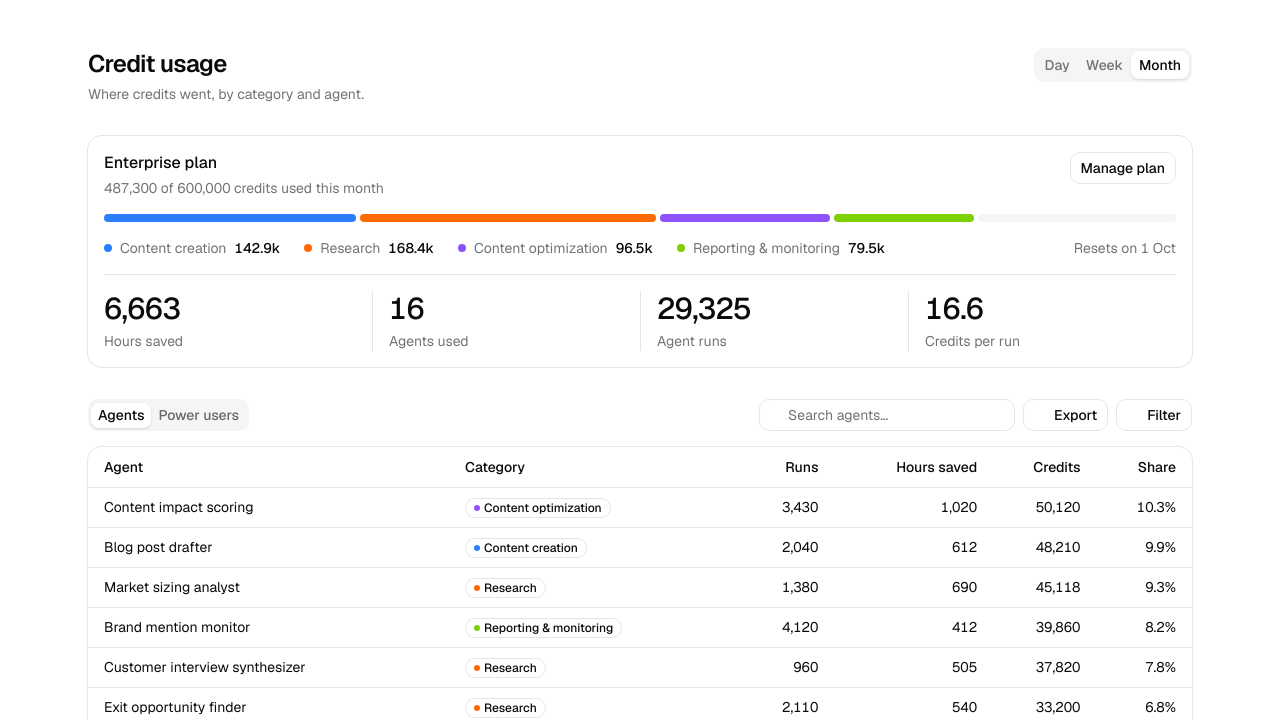
Test: CreditUsage › filters by category and shows a resettable empty state
Click the button "Filter": x=1154, y=415 [1116,399,1192,431]
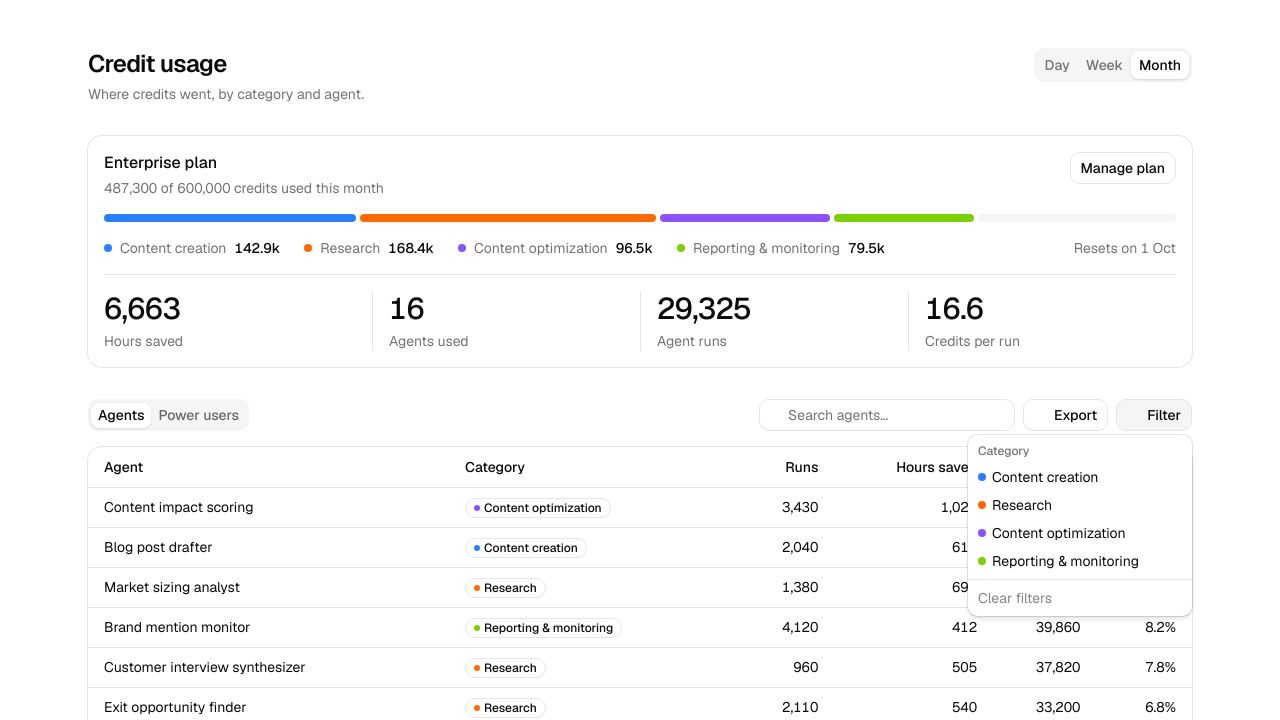
Click the menu item "Research": x=1015, y=505 [978,496,1052,514]
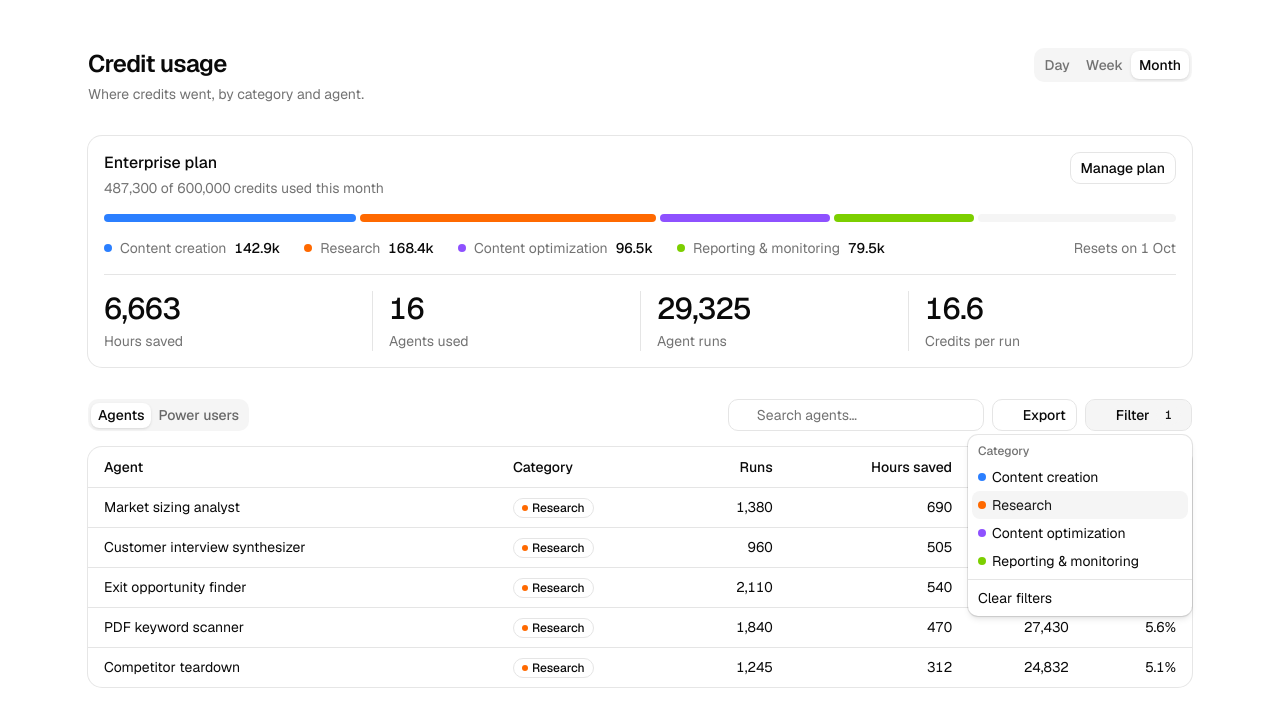
Press Escape
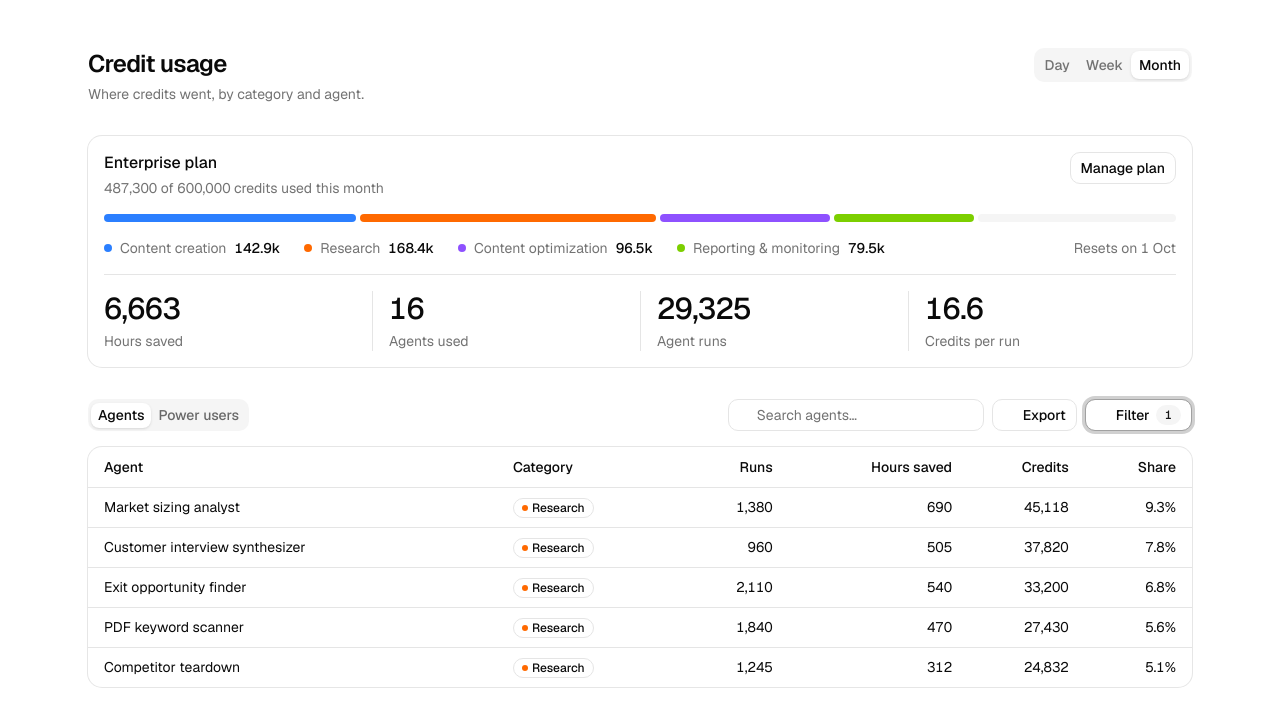
Expected: the button "Filter 1" is shown, [1085,399,1192,431]
In the search field labelled "Search agents": x=867, y=415 [751,397,983,433], type "zzz"
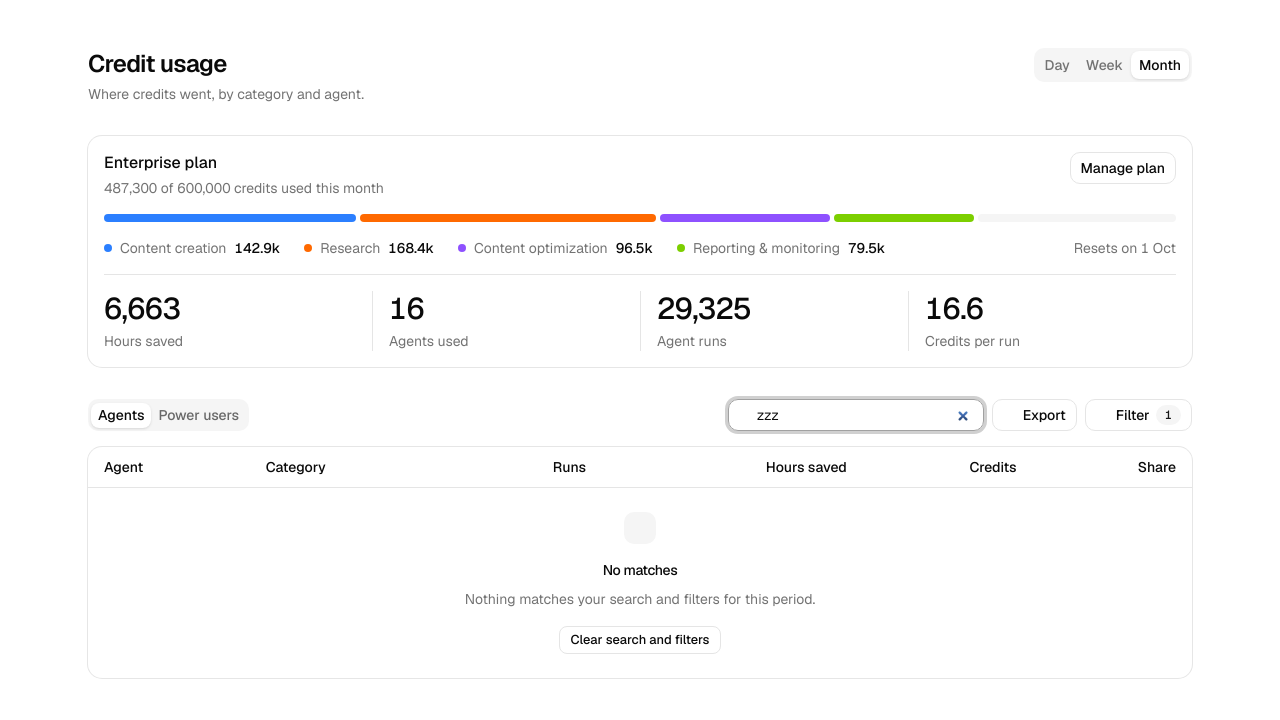
Expected: the text "No matches" is shown, [603,560,677,580]
Click the button "Clear search and filters": x=640, y=640 [560,626,720,654]
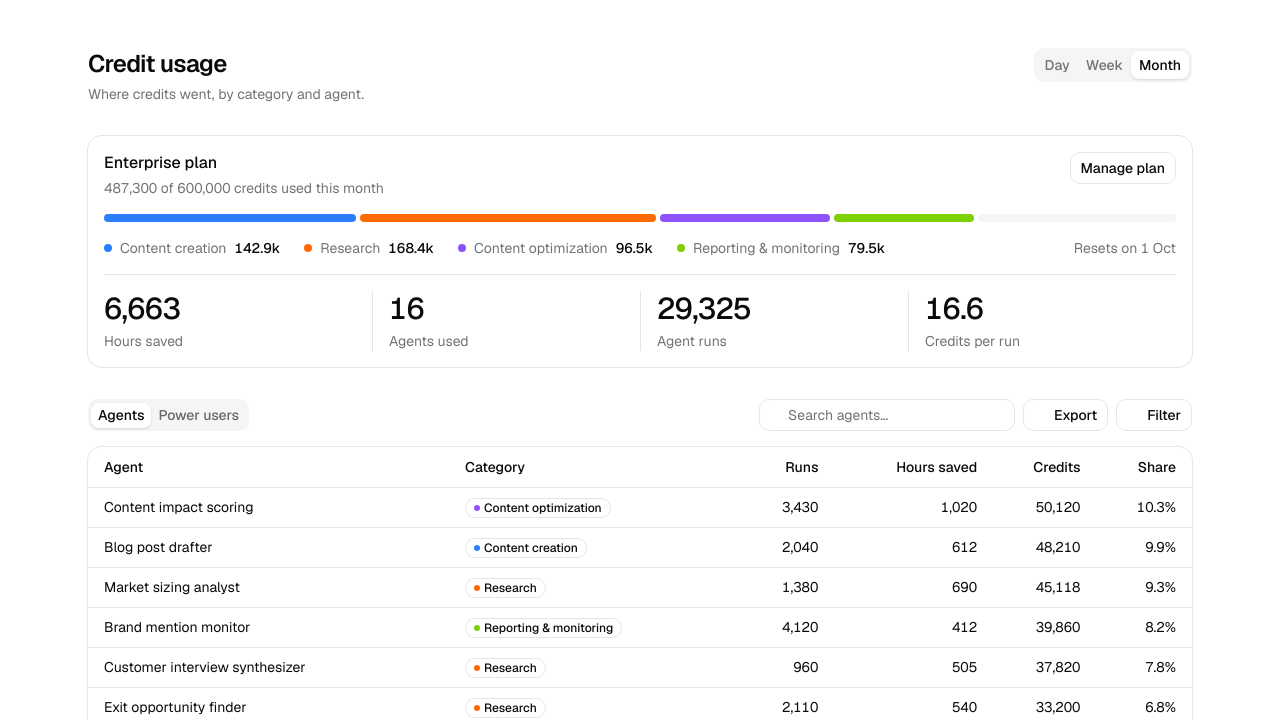
Expected: the search field labelled "Search agents" is empty, [782,397,1014,433]
